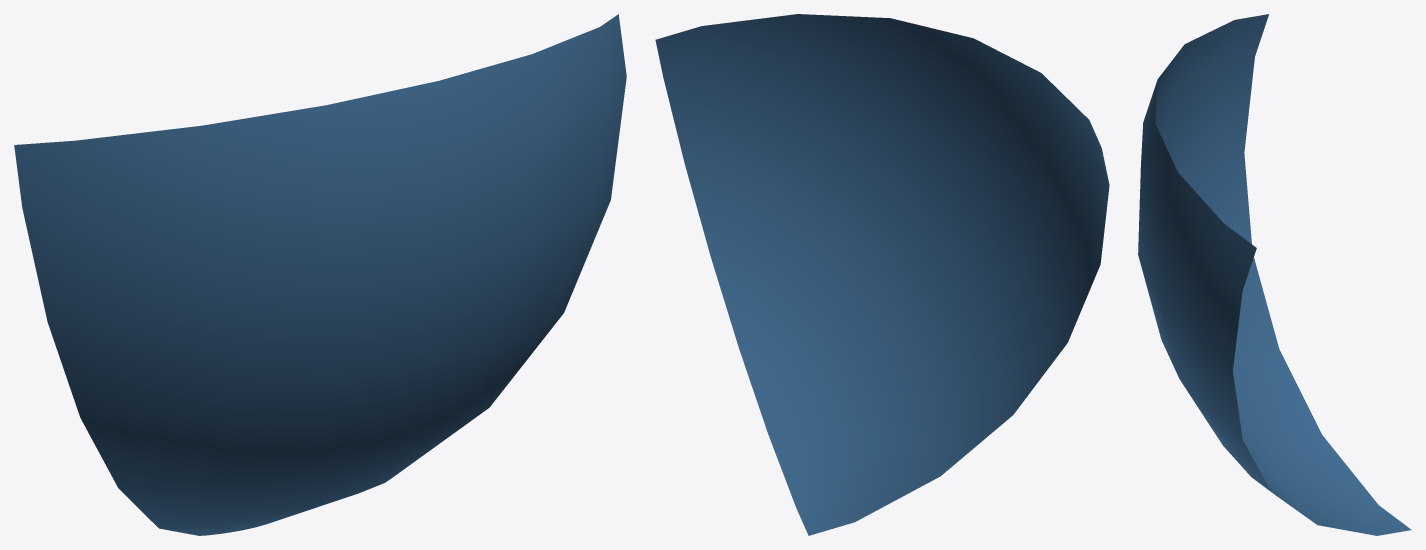
File: original-7.obj
3 views of the same model, side by side, from view 1: azimuth 30°, elevation 25°; view 2: azimuth 150°, elevation 25°; view 3: azimuth 270°, elevation 25° (orthographic). The views are drawn at different scales.
Parts seen in each view (by area): view 1: globe_quarter5/globe_quarter12/mesh2/mesh2-geometry#mesh2-geomet; view 2: globe_quarter5/globe_quarter12/mesh2/mesh2-geometry#mesh2-geomet; view 3: globe_quarter5/globe_quarter12/mesh2/mesh2-geometry#mesh2-geomet.
Boxes of the visible parts, <box> form: globe_quarter5/globe_quarter12/mesh2/mesh2-geometry#mesh2-geomet: <box>14,14,626,535</box>; globe_quarter5/globe_quarter12/mesh2/mesh2-geometry#mesh2-geomet: <box>655,14,1109,535</box>; globe_quarter5/globe_quarter12/mesh2/mesh2-geometry#mesh2-geomet: <box>1138,14,1411,535</box>.
Size of the model in its own units: 0.8412 by 0.7402 by 0.4274.
